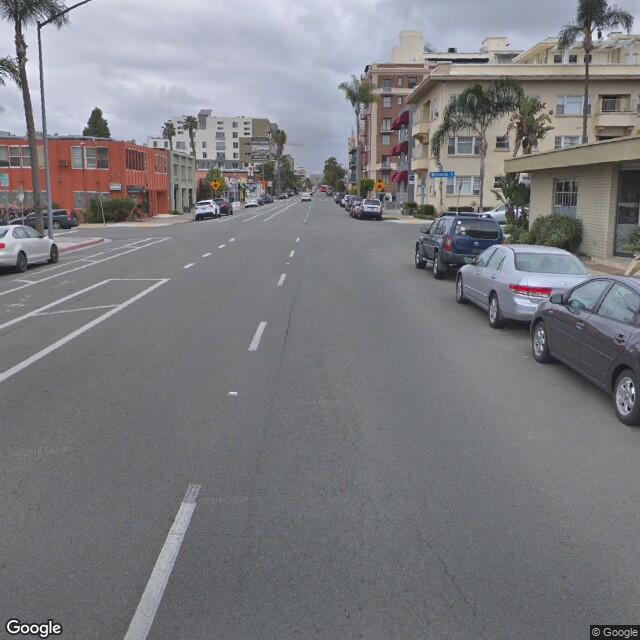road line: (240, 234, 307, 368), (28, 273, 164, 332)
window: (70, 145, 111, 168), (453, 131, 480, 155)
